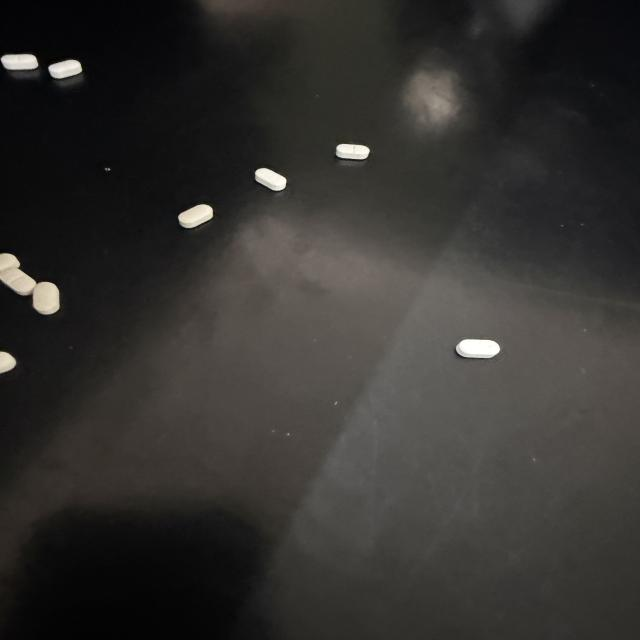pill: (0, 268, 35, 295), (33, 282, 59, 314), (178, 205, 213, 228), (456, 340, 500, 358), (255, 168, 286, 190), (49, 60, 82, 79), (0, 54, 38, 70), (336, 144, 369, 160), (0, 352, 16, 373), (0, 254, 19, 271)
